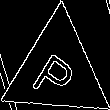P_NE: (31, 39, 84, 102)
